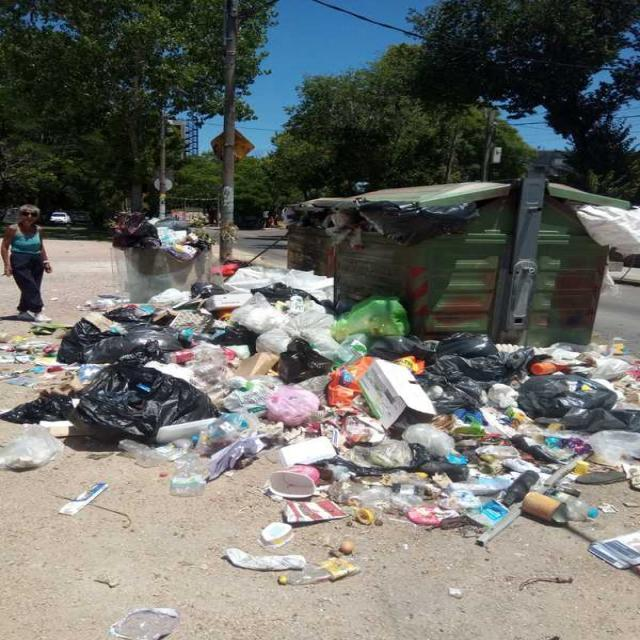high trash: (0, 214, 640, 546)
